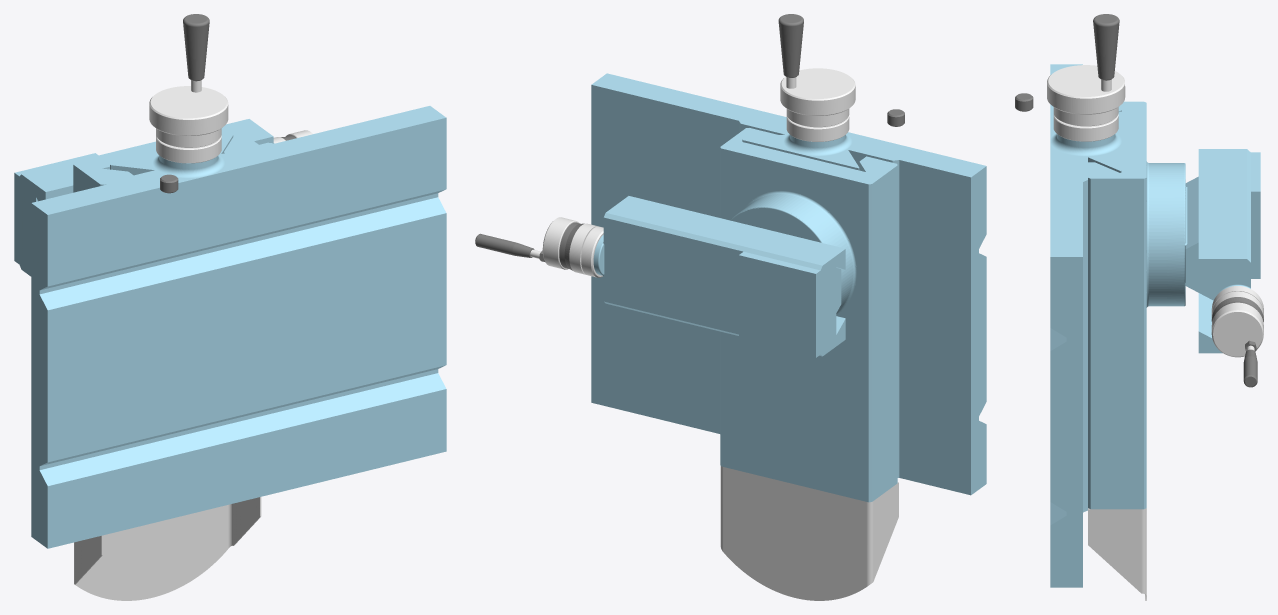
The model's file is CROSS SLIDE.glb.
3 renders of one model, left to right at view 1: azimuth 30°, elevation 25°; view 2: azimuth 150°, elevation 25°; view 3: azimuth 270°, elevation 25°, orthographic. The views are drawn at different scales.
Visible parts, largest first — view 1: Node1, Node2, Node3; view 2: Node1, Node2, Node3; view 3: Node1, Node2, Node3.
Boxes of the visible parts, <box> form: Node1: <box>14,106,446,548</box>; Node2: <box>74,80,312,600</box>; Node3: <box>160,14,295,193</box>; Node1: <box>591,73,986,502</box>; Node2: <box>530,68,898,600</box>; Node3: <box>475,14,904,270</box>; Node1: <box>1050,64,1260,587</box>; Node2: <box>1047,65,1263,600</box>; Node3: <box>1015,14,1263,387</box>.
Bounding box in the file's own units: 380 × 493 × 191.
